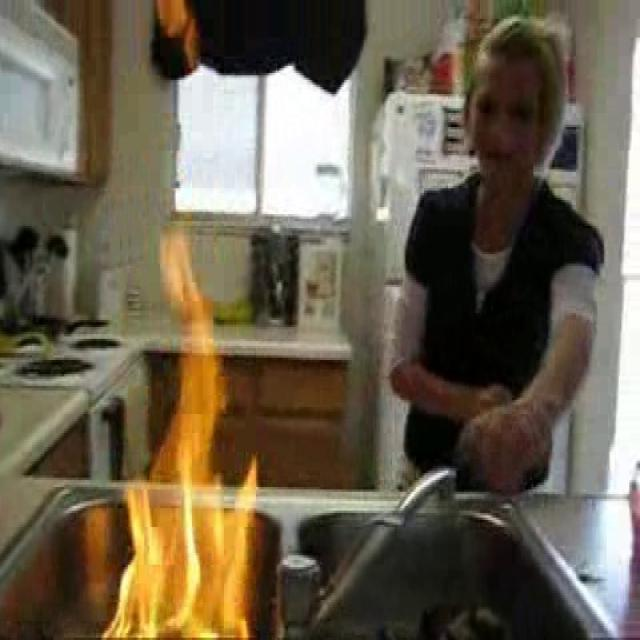Fire: (124, 215, 245, 638)
